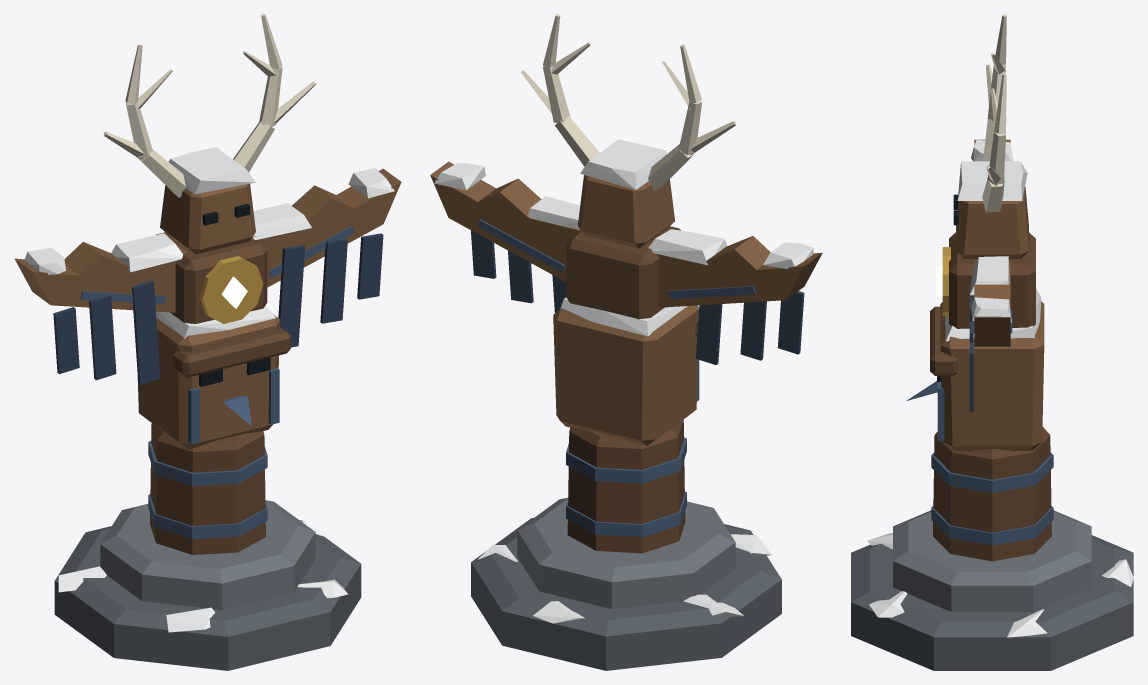
File: Snow_Shrine_Totem.fbx
The picture shows the model from 3 angles, left to right: view 1: azimuth 30°, elevation 25°; view 2: azimuth 150°, elevation 25°; view 3: azimuth 270°, elevation 25°; orthographic projection. The views are drawn at different scales.
Visible parts, largest first — view 1: Wood2, Plinth, Wood, Stone, Snow, Cloth, Paint, Antlers, Gold, Dark; view 2: Wood2, Plinth, Wood, Stone, Snow, Cloth, Antlers, Paint; view 3: Plinth, Wood2, Wood, Stone, Snow, Paint, Antlers, Cloth, Gold.
Boxes of the visible parts, x1,y1,x2,y2 form: Wood2: (15,168,401,449); Plinth: (54,520,361,670); Wood: (150,232,291,554); Stone: (100,500,315,609); Snow: (24,147,394,632); Cloth: (53,233,383,384); Paint: (80,226,354,538); Antlers: (103,14,315,197); Gold: (199,256,263,323); Dark: (199,203,270,386); Wood2: (430,161,822,446); Plinth: (471,518,781,670); Wood: (566,226,698,553); Stone: (517,497,735,609); Snow: (434,139,813,623); Cloth: (471,230,804,364); Antlers: (521,14,736,191); Paint: (477,219,755,537); Plinth: (851,535,1133,670); Wood2: (940,139,1044,450); Wood: (930,232,1051,561); Stone: (893,510,1091,611); Snow: (867,139,1133,637); Paint: (906,309,1053,545); Antlers: (982,14,1006,212); Cloth: (969,297,973,411); Gold: (942,247,950,315).
Bounding box in the file's own units: 5.1 × 7.56 × 3.42.
